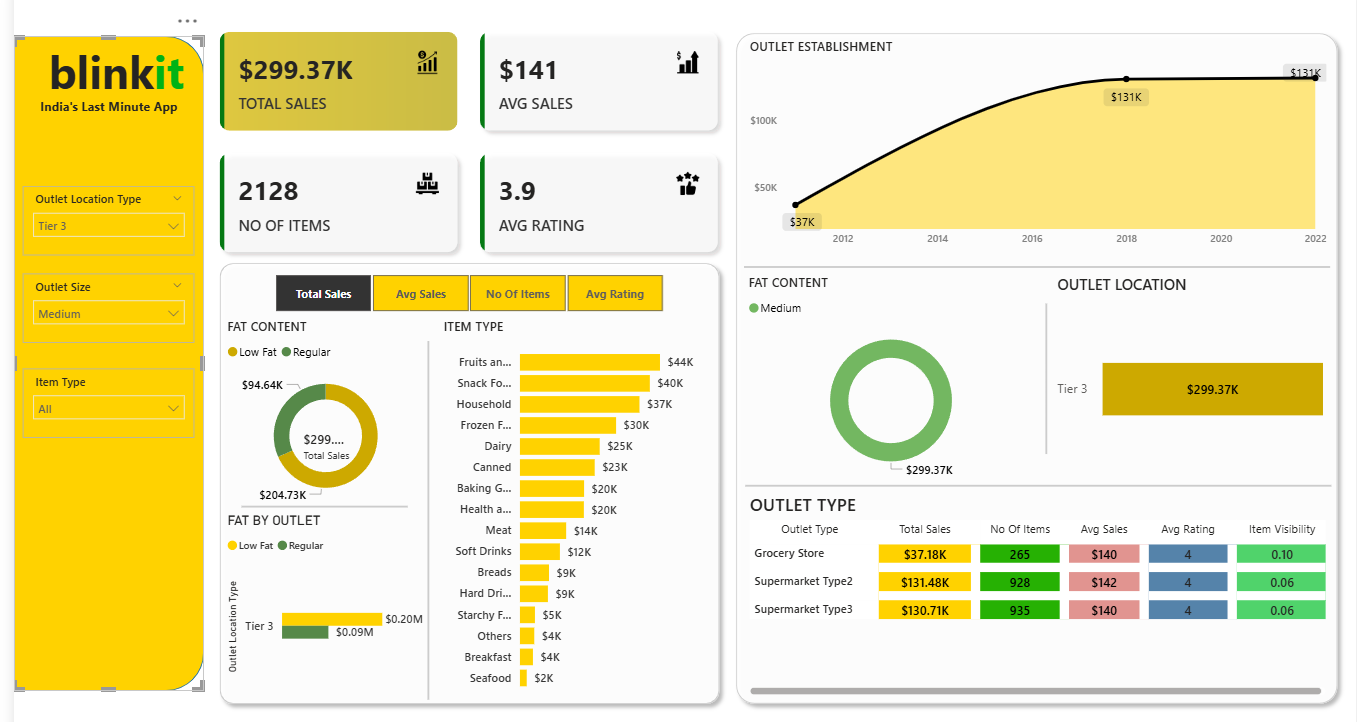

What the dashboard file says about the page in this screenshot:
{"tool":"powerbi","page":{"name":"Page 1","canvas":[1440,800],"ordinal":0},"visuals":[{"type":"shape","box":[0,47.9,203.8,702.4],"z":0},{"type":"textbox","box":[32.4,47.9,171.4,78.7],"z":1000},{"type":"textbox","box":[0,109.6,203.8,32.4],"z":2000},{"type":"cardVisual","fields":{"Data":["BlinkIT Grocery Data.Total Sales","BlinkIT Grocery Data.Avg Sales","BlinkIT Grocery Data.No Of Items","BlinkIT Grocery Data.Average Rating"]},"box":[203.8,26.2,569.6,270.2],"z":2001},{"type":"shape","box":[211.8,282.8,553.6,490.6],"z":2002},{"type":"donutChart","title":"FAT CONTENT","fields":{"Y":["BlinkIT Grocery Data.Total Sales"],"Category":["BlinkIT Grocery Data.Item Fat Content"]},"box":[223.9,349.9,221.2,209.1],"z":2003},{"type":"slicer","fields":{"Values":["Metrices.Metrices"]},"box":[254.7,297.6,465.1,52.3],"z":2004},{"type":"cardVisual","fields":{"Data":["BlinkIT Grocery Data.Total Sales"]},"box":[293.6,454.4,84.5,56.3],"z":2005},{"type":"clusteredBarChart","title":"FAT BY OUTLET","fields":{"Category":["BlinkIT Grocery Data.Outlet Location Type"],"Y":["BlinkIT Grocery Data.Total Sales"],"Series":["BlinkIT Grocery Data.Item Fat Content"]},"box":[224.3,558.6,220,192.9],"z":2006},{"type":"shape","box":[355.2,375.3,178.3,384.7],"z":2007},{"type":"shape","box":[244,546.9,178.3,12.1],"z":2008},{"type":"barChart","title":"ITEM TYPE","fields":{"Category":["BlinkIT Grocery Data.Item Type"],"Y":["BlinkIT Grocery Data.Total Sales"]},"box":[455.8,349.9,294.9,410.2],"z":2009},{"type":"shape","box":[765.7,35.7,662.9,737.1],"z":2010},{"type":"lineChart","title":"OUTLET ESTABLISHMENT","fields":{"Category":["BlinkIT Grocery Data.Outlet Establishment Year"],"Y":["BlinkIT Grocery Data.Total Sales"]},"box":[784.3,50,628.6,232.9],"z":2011},{"type":"shape","box":[782.9,290,628.6,12.9],"z":2012},{"type":"donutChart","title":"FAT CONTENT","fields":{"Y":["BlinkIT Grocery Data.Total Sales"],"Category":["BlinkIT Grocery Data.Outlet Size"]},"box":[782.9,302.9,315.7,227.1],"z":2013},{"type":"shape","box":[1098.6,335.7,15.7,161.4],"z":2014},{"type":"funnel","title":"OUTLET LOCATION","fields":{"Category":["BlinkIT Grocery Data.Outlet Location Type"],"Y":["BlinkIT Grocery Data.Total Sales"]},"box":[1114.3,302.9,300,225.7],"z":2015},{"type":"shape","box":[784.3,524.3,628.6,12.9],"z":2016},{"type":"pivotTable","title":"OUTLET TYPE","fields":{"Rows":["BlinkIT Grocery Data.Outlet Type"],"Values":["BlinkIT Grocery Data.Total Sales","BlinkIT Grocery Data.No Of Items","BlinkIT Grocery Data.Avg Sales","BlinkIT Grocery Data.Avg Rating","Avg(BlinkIT Grocery Data.Item Visibility)"]},"box":[784.3,537.1,627.1,222.9],"z":2017},{"type":"slicer","fields":{"Values":["BlinkIT Grocery Data.Outlet Location Type"]},"box":[10,208.6,184.3,74.3],"z":2018},{"type":"slicer","fields":{"Values":["BlinkIT Grocery Data.Outlet Size"]},"box":[10,302.9,184.3,74.3],"z":2019},{"type":"slicer","fields":{"Values":["BlinkIT Grocery Data.Item Type"]},"box":[10,404.3,184.3,74.3],"z":2020}]}

Visuals, with their boxes on the page's 1440x800 design canvas (x1, y1, x2, y2). These are canvas units, not pixel positions in the 1357x722 screenshot, which may show the page scaled, cropped or inside an application window:
shape: {"x1": 0, "y1": 48, "x2": 204, "y2": 750}
textbox: {"x1": 32, "y1": 48, "x2": 204, "y2": 127}
textbox: {"x1": 0, "y1": 110, "x2": 204, "y2": 142}
cardVisual - BlinkIT Grocery Data.Total Sales x BlinkIT Grocery Data.Avg Sales: {"x1": 204, "y1": 26, "x2": 773, "y2": 296}
shape: {"x1": 212, "y1": 283, "x2": 765, "y2": 773}
"FAT CONTENT" donutChart: {"x1": 224, "y1": 350, "x2": 445, "y2": 559}
slicer - Metrices.Metrices: {"x1": 255, "y1": 298, "x2": 720, "y2": 350}
cardVisual - BlinkIT Grocery Data.Total Sales: {"x1": 294, "y1": 454, "x2": 378, "y2": 511}
"FAT BY OUTLET" clusteredBarChart: {"x1": 224, "y1": 559, "x2": 444, "y2": 752}
shape: {"x1": 355, "y1": 375, "x2": 534, "y2": 760}
shape: {"x1": 244, "y1": 547, "x2": 422, "y2": 559}
"ITEM TYPE" barChart: {"x1": 456, "y1": 350, "x2": 751, "y2": 760}
shape: {"x1": 766, "y1": 36, "x2": 1429, "y2": 773}
"OUTLET ESTABLISHMENT" lineChart: {"x1": 784, "y1": 50, "x2": 1413, "y2": 283}
shape: {"x1": 783, "y1": 290, "x2": 1412, "y2": 303}
"FAT CONTENT" donutChart: {"x1": 783, "y1": 303, "x2": 1099, "y2": 530}
shape: {"x1": 1099, "y1": 336, "x2": 1114, "y2": 497}
"OUTLET LOCATION" funnel: {"x1": 1114, "y1": 303, "x2": 1414, "y2": 529}
shape: {"x1": 784, "y1": 524, "x2": 1413, "y2": 537}
"OUTLET TYPE" pivotTable: {"x1": 784, "y1": 537, "x2": 1411, "y2": 760}
slicer - BlinkIT Grocery Data.Outlet Location Type: {"x1": 10, "y1": 209, "x2": 194, "y2": 283}
slicer - BlinkIT Grocery Data.Outlet Size: {"x1": 10, "y1": 303, "x2": 194, "y2": 377}
slicer - BlinkIT Grocery Data.Item Type: {"x1": 10, "y1": 404, "x2": 194, "y2": 479}
